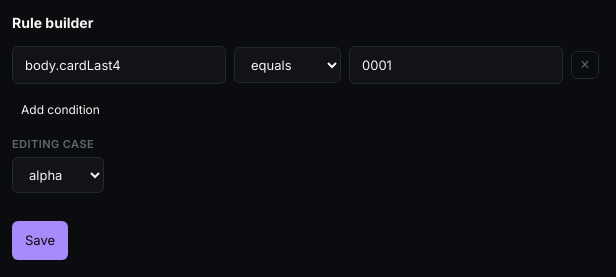
RuleBuilder › switching the edited case re-hydrates its own conditions
Step 1. Select "gamma" in the dropdown labelled "Editing case" → (58, 176), box [12,158,104,194]
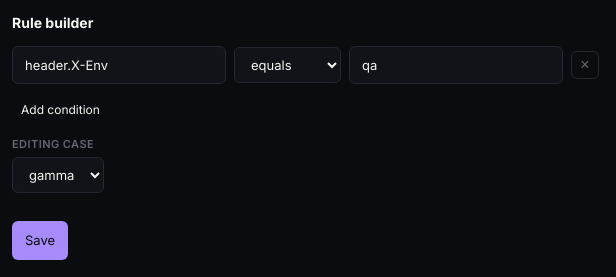
Expected: the field named "Condition field" holds "header.X-Env", [12,46,226,84]
Expected: the field named "Condition value" holds "qa", [349,46,563,84]
